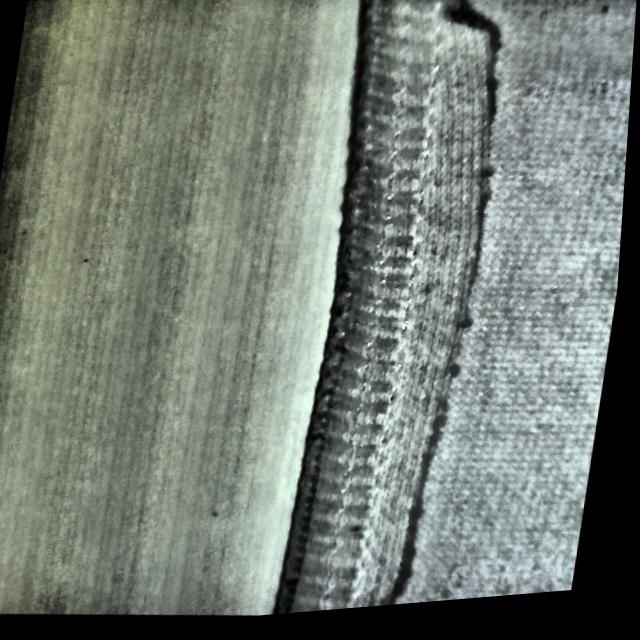seam: (256, 3, 587, 621)
